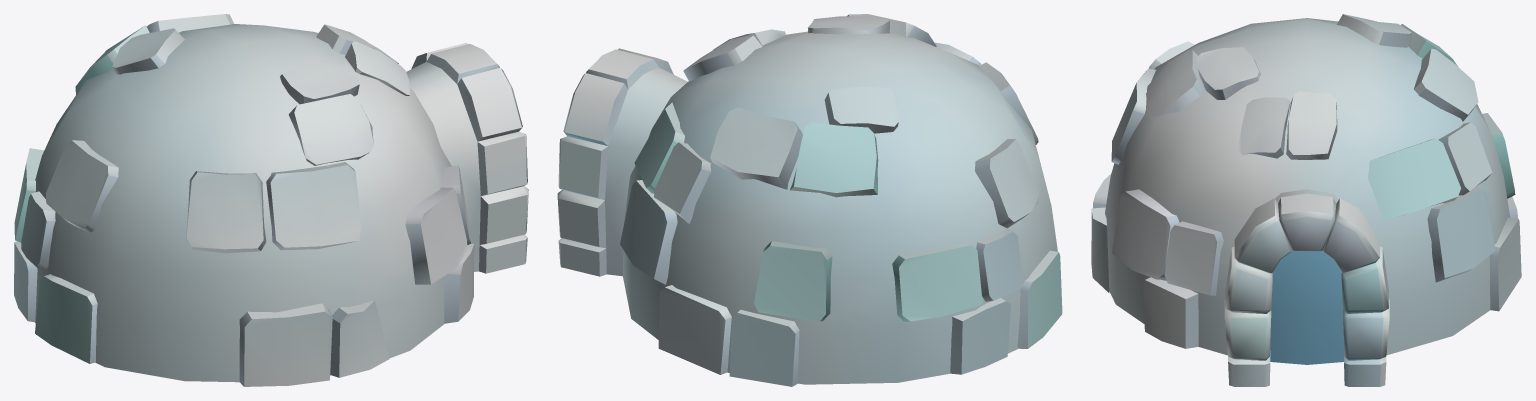
The model's file is Igloo.glb.
3 renders of one model, left to right at view 1: azimuth 30°, elevation 25°; view 2: azimuth 150°, elevation 25°; view 3: azimuth 270°, elevation 25°, orthographic. The views are drawn at different scales.
Visible parts, largest first — view 1: Igloo; view 2: Igloo; view 3: Igloo.
Boxes of the visible parts, x1,y1,x2,y2 form: Igloo: [14, 14, 528, 386]; Igloo: [557, 14, 1062, 386]; Igloo: [1091, 14, 1521, 386].
Bounding box in the file's own units: 2.63 × 1.41 × 2.33.
